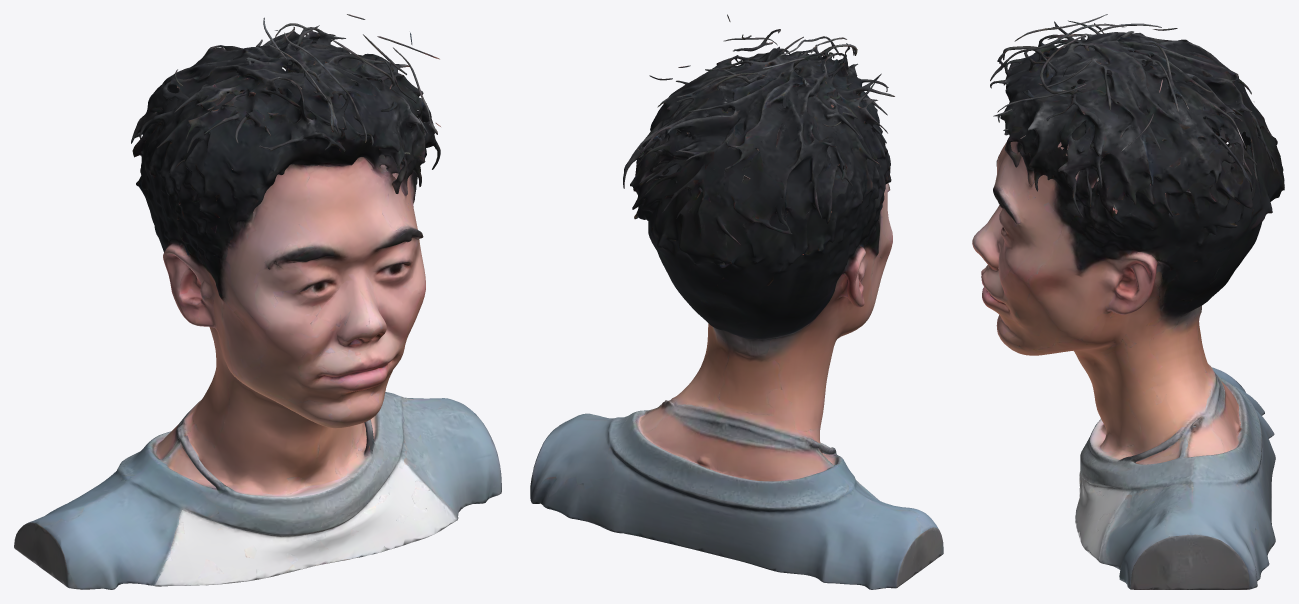
Rendered from head.glb.
The picture shows the model from 3 angles, left to right: view 1: azimuth 30°, elevation 25°; view 2: azimuth 150°, elevation 25°; view 3: azimuth 270°, elevation 25°; orthographic projection. The views are drawn at different scales.
Visible parts, largest first — view 1: geometry_0; view 2: geometry_0; view 3: geometry_0.
Boxes of the visible parts, bbox=[...] form: geometry_0: bbox=[14, 14, 501, 589]; geometry_0: bbox=[530, 14, 943, 589]; geometry_0: bbox=[972, 14, 1284, 589].
Size of the model in its own units: 27832 by 32703 by 19747.
Materials: 1 (1 with a texture image).
